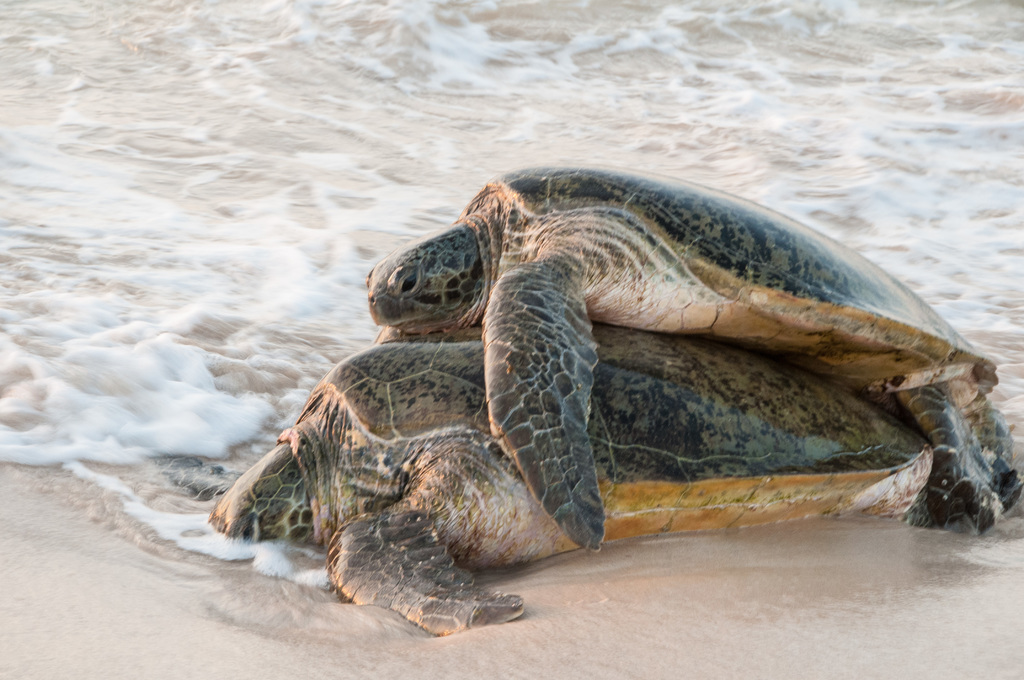Sea turtles: (149, 320, 1024, 635), (365, 163, 999, 552)
